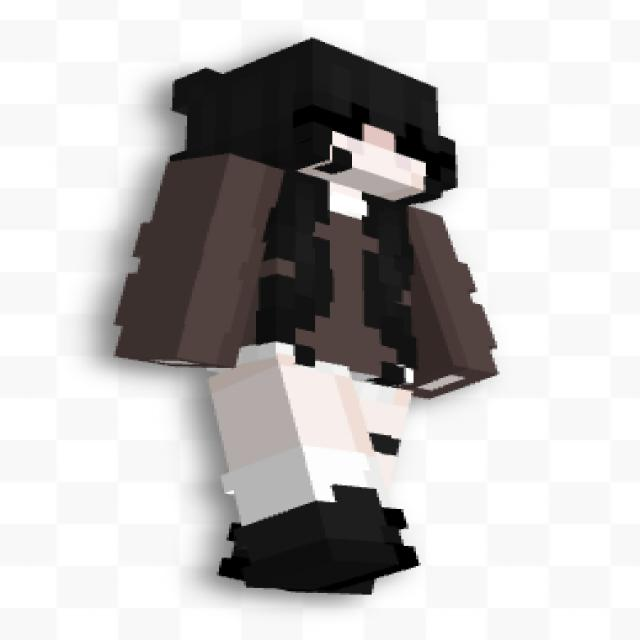Player: (108, 36, 500, 598)
